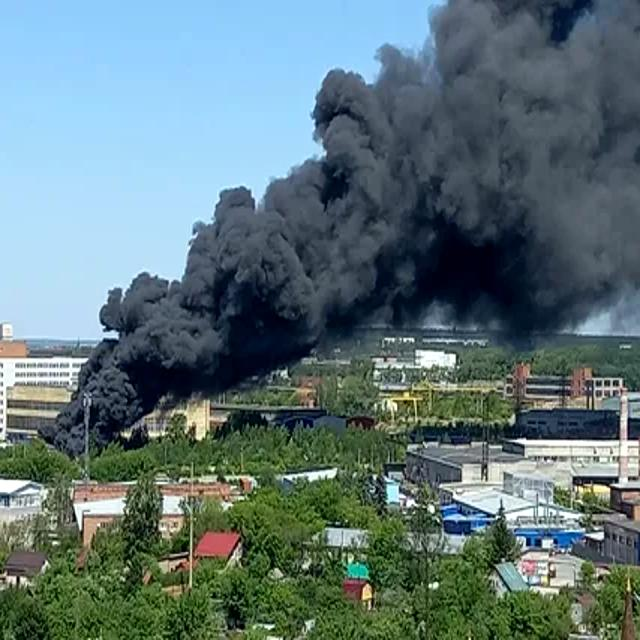no_helmet: (40, 3, 640, 446)
